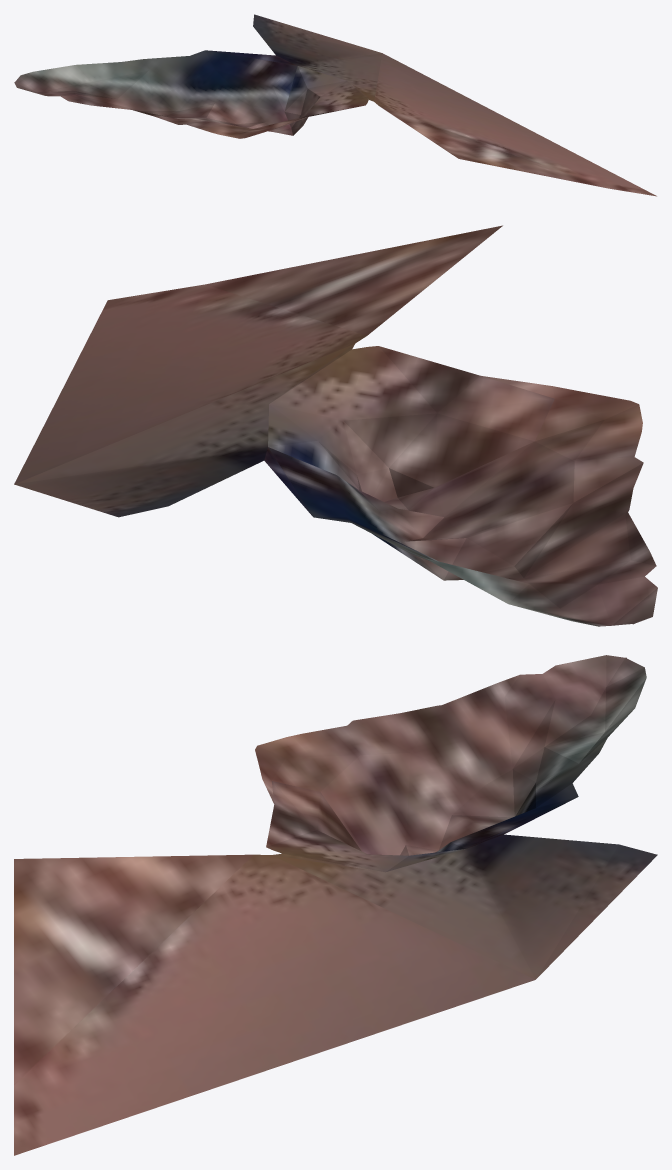
The picture shows the model from 3 angles, top to bottom: view 1: azimuth 30°, elevation 25°; view 2: azimuth 150°, elevation 25°; view 3: azimuth 270°, elevation 25°; orthographic projection. The views are drawn at different scales.
Size of the model in its own units: 1.78 by 0.321 by 1.34.
1 material, 1 textured.
